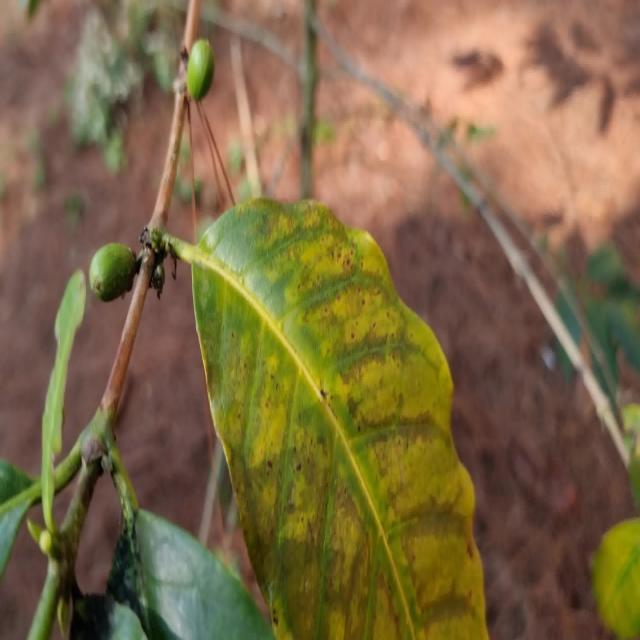leaves: (179, 174, 498, 640)
